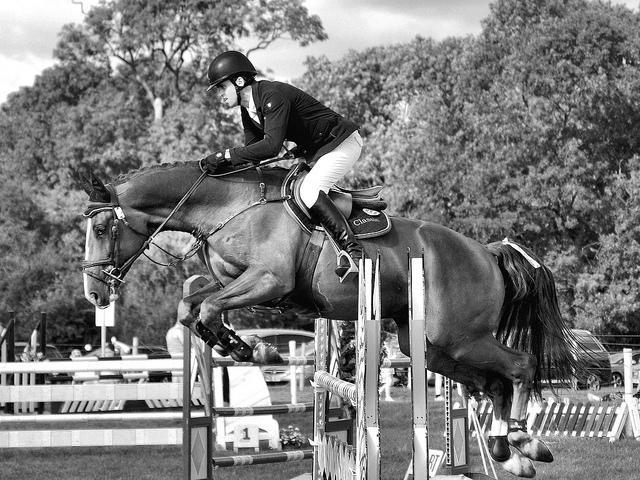car: (569, 327, 612, 393), (246, 330, 314, 354), (609, 352, 640, 388), (15, 342, 65, 362), (136, 346, 170, 358)
